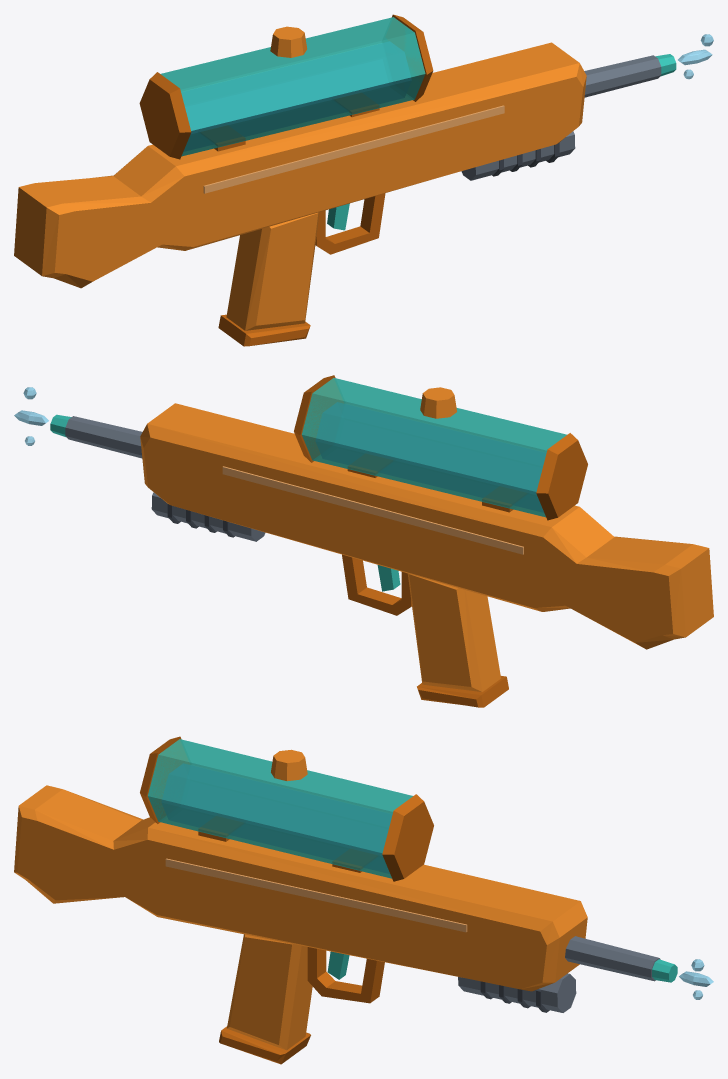
Rendered from tidal.glb.
3 views of the same model, one above another, from view 1: azimuth 30°, elevation 25°; view 2: azimuth 150°, elevation 25°; view 3: azimuth 330°, elevation 25° (orthographic).
Visible parts, largest first — view 1: tidal; view 2: tidal; view 3: tidal.
Part boxes in pixels (x1=…): tidal: x1=14, y1=14, x2=713, y2=346; tidal: x1=14, y1=375, x2=713, y2=707; tidal: x1=14, y1=736, x2=713, y2=1064.
Bounding box in the file's own units: 0.5919 × 0.246 × 0.068.
